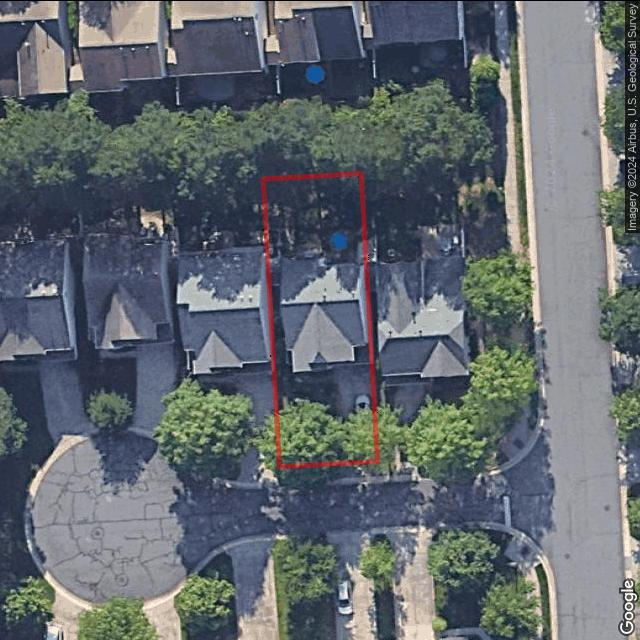Driveway: (335, 361, 380, 463)
Extra-Driveway: (337, 459, 384, 477)
House: (280, 259, 370, 374)
Lawn: (263, 173, 378, 465)
Other: (323, 226, 363, 269), (306, 368, 331, 375)
Sidewalk: (294, 368, 337, 384)
